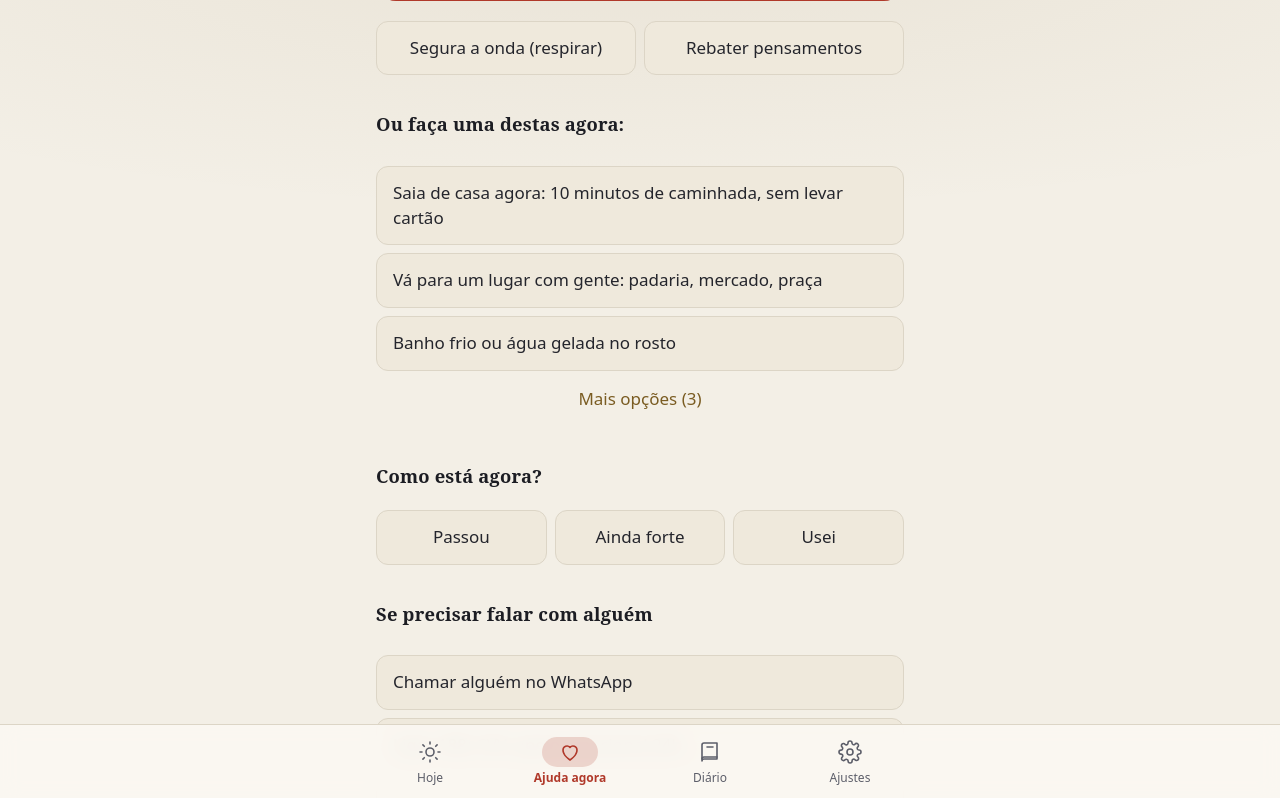
Test case: SOS que aprende › registra a ação que funcionou e passa a mostrá-la primeiro
(page scrolled)
Click the button "Mais opções (3)" at coordinates (640, 399), box [578,378,702,419]
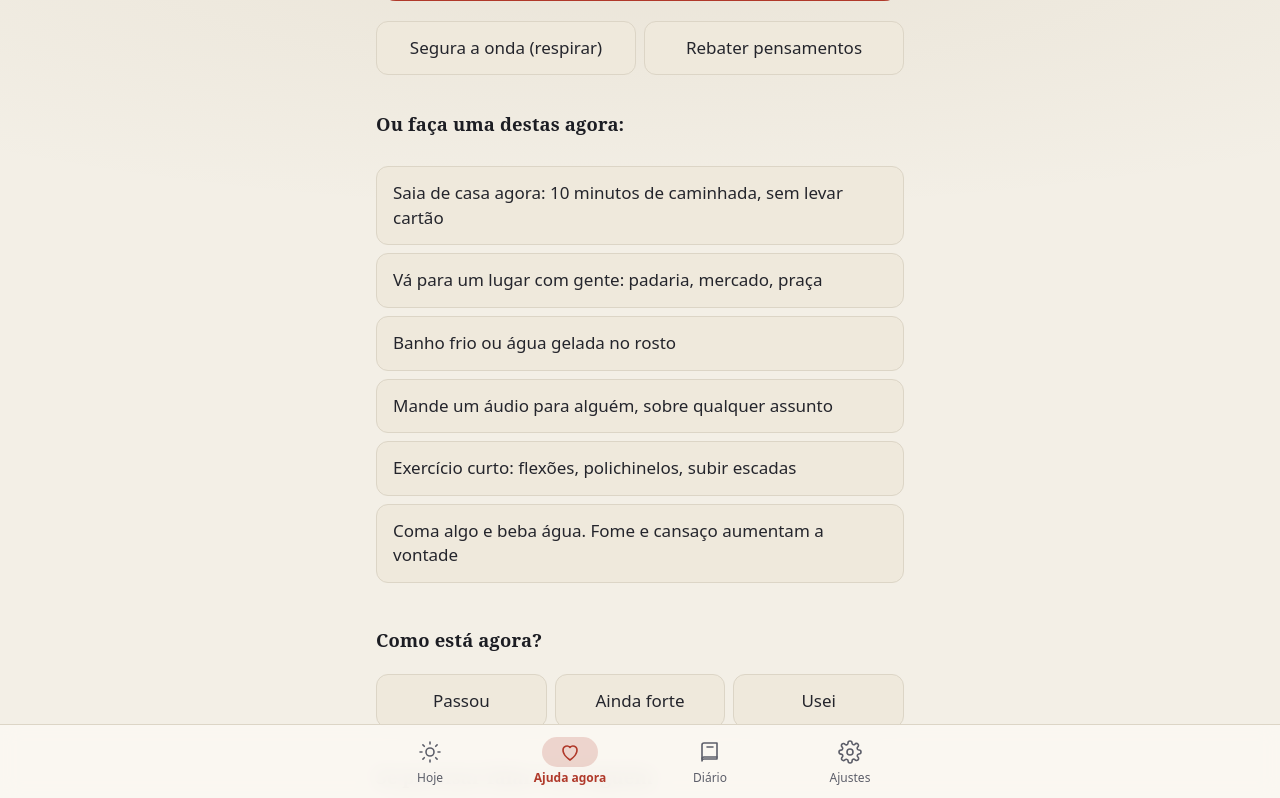
Click the button "Coma algo e beba água. Fome e cansaço aumentam a vontade" at coordinates (640, 543), box [376,504,904,583]
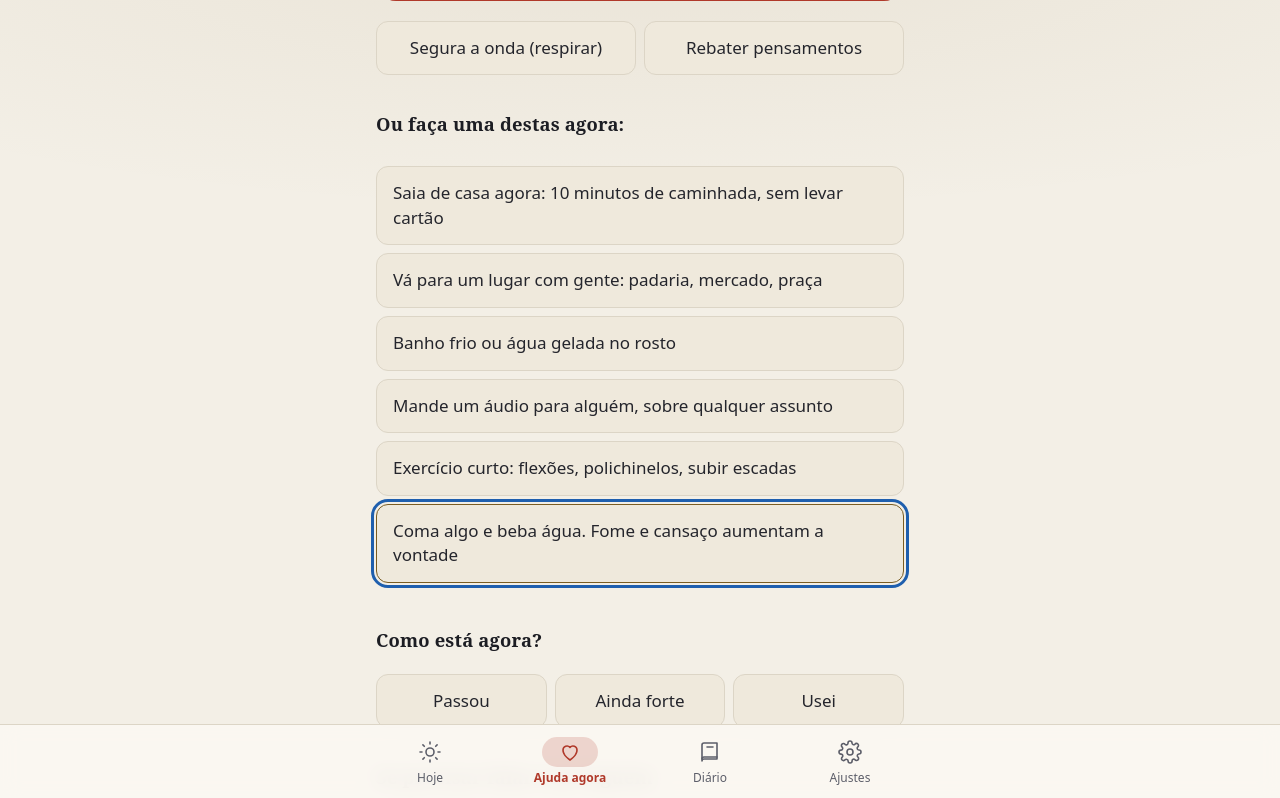
Click the button "Passou" at coordinates (461, 701), box [376,674,547,728]
(page scrolled)
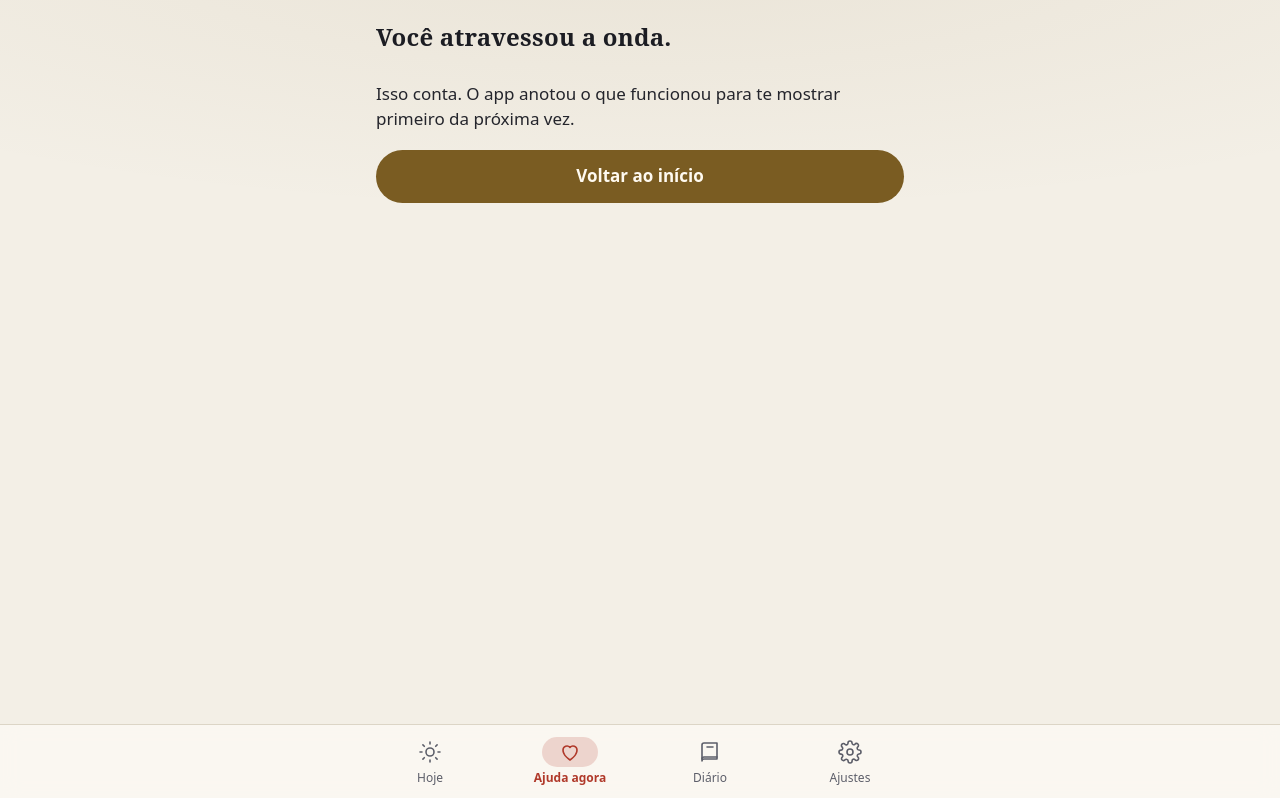
Check: the heading "Você atravessou a onda." is shown, box [376,20,672,53]
